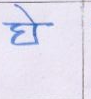o_matra: (27, 10, 43, 44)
